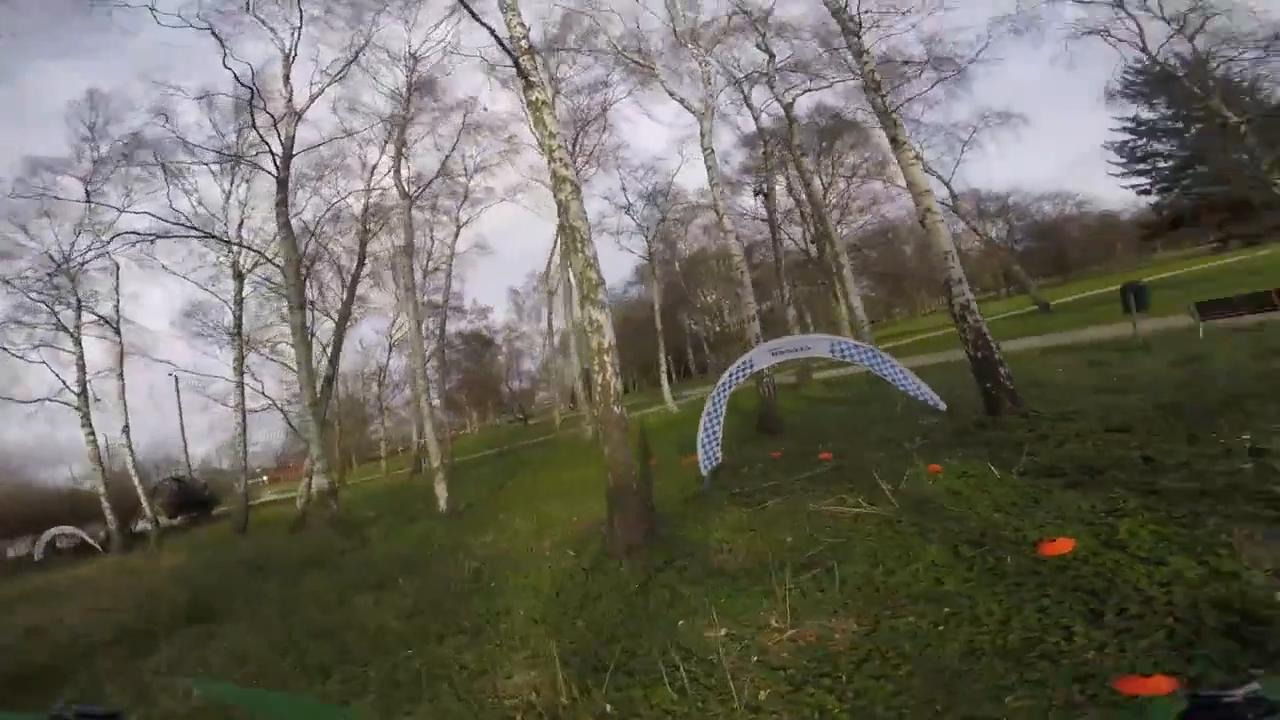gate: (696, 331, 951, 479)
